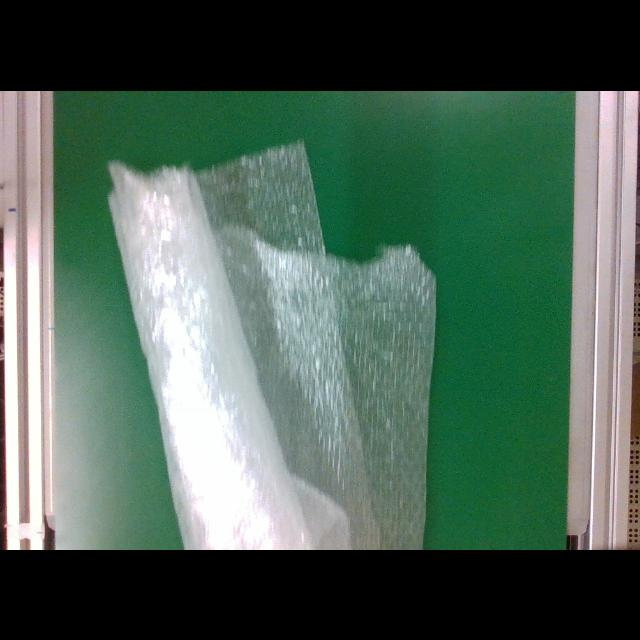scrap_plastic: (106, 136, 434, 550)
